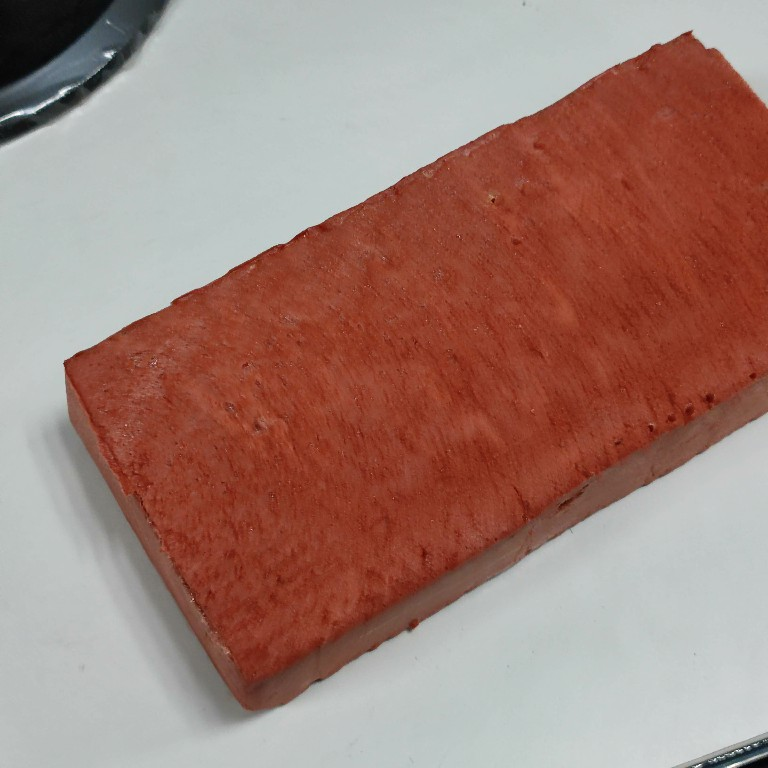brick: (61, 26, 768, 713)
